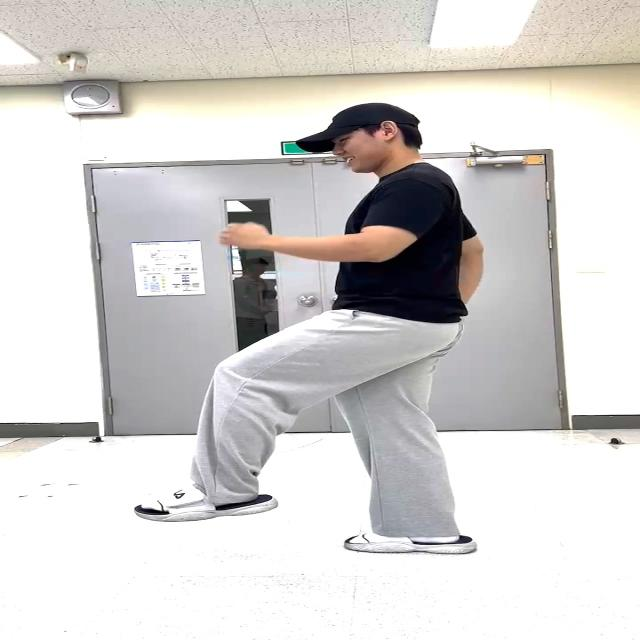leg: (109, 310, 385, 542)
